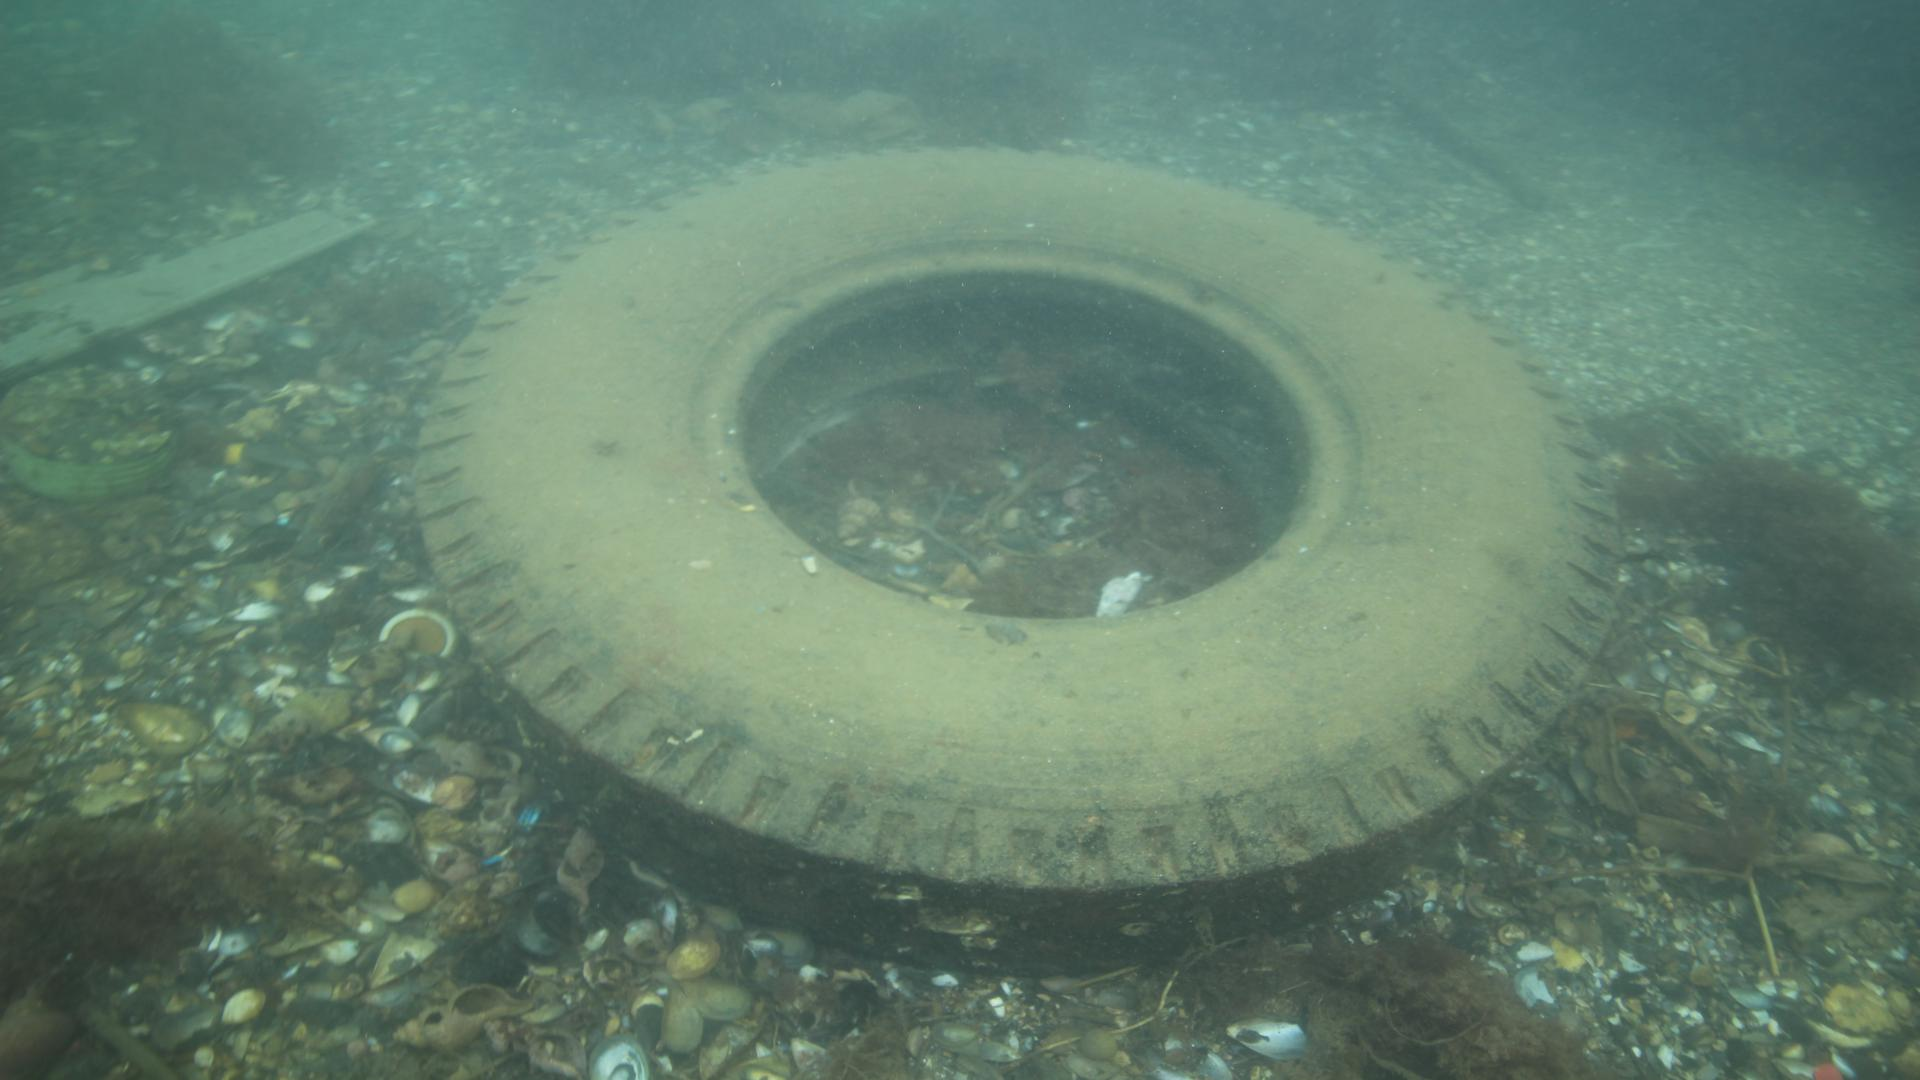tire: (411, 141, 1625, 981)
